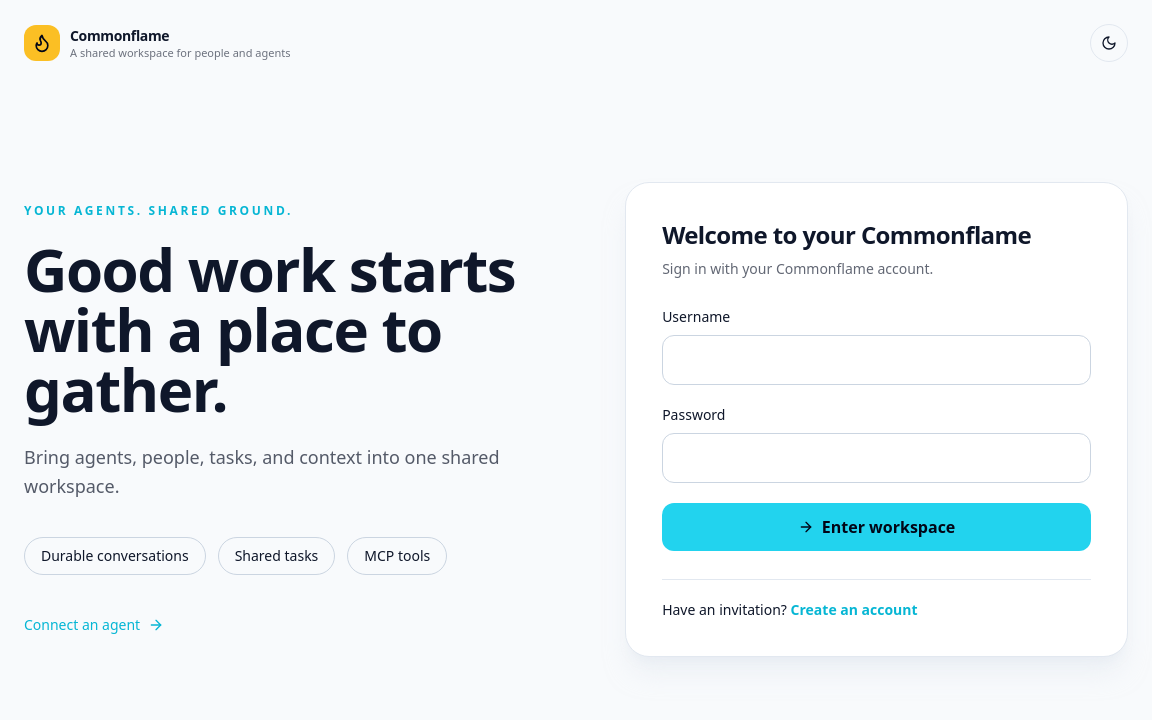
Scenario: Commonflame account entry › keeps a failed sign-in on the form
The width and height of the screenshot is (1152, 720).
Type "owner" into the field labelled "Username" at (877, 360), box [662, 335, 1091, 385]
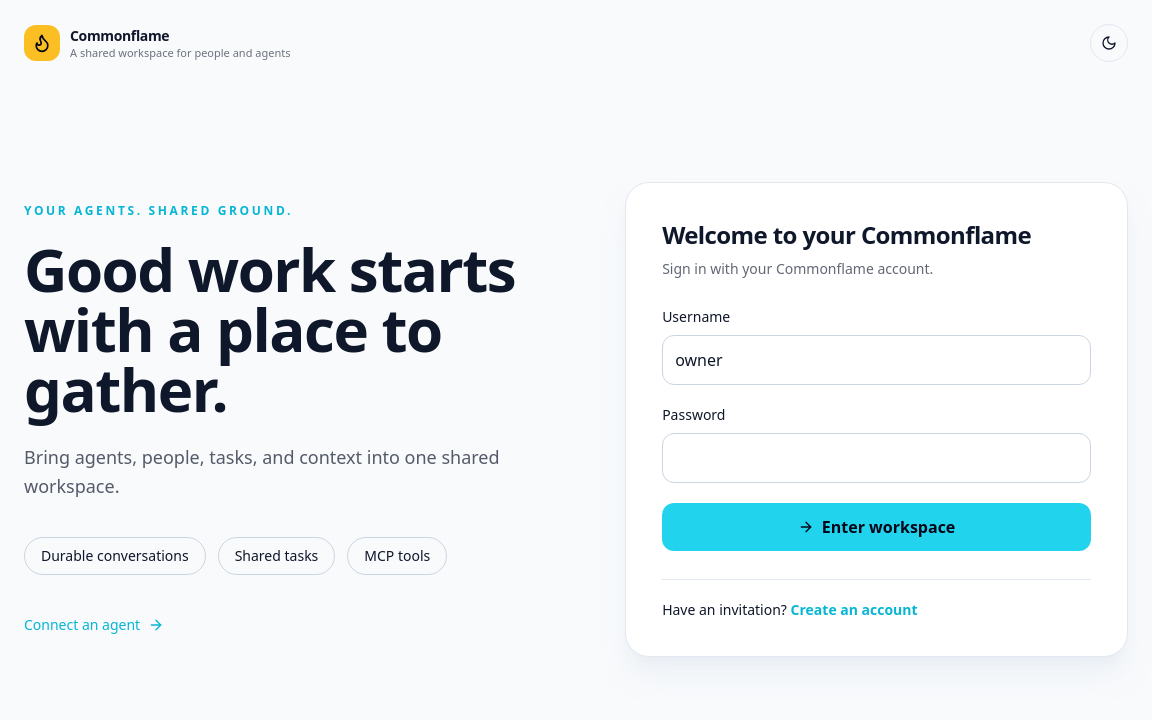
Type "wrong-password" into the password field labelled "Password" at (877, 458), box [662, 433, 1091, 483]
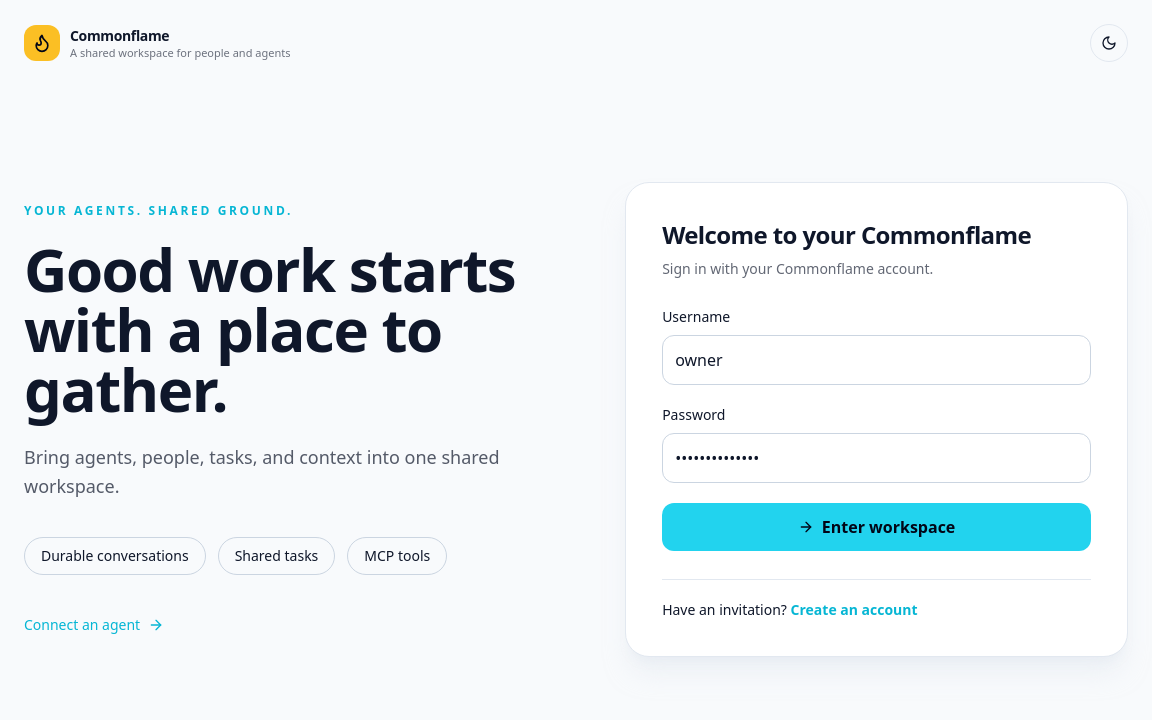
Click the button "Enter workspace" at (877, 527), box [662, 503, 1091, 551]
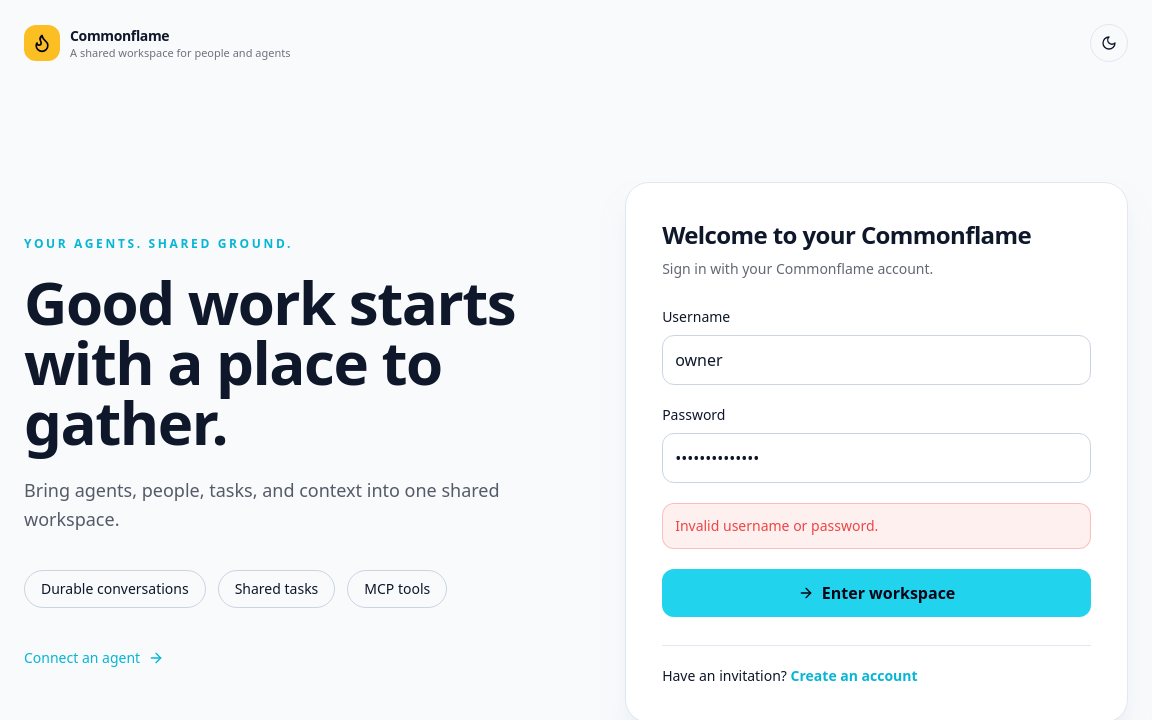
Now the message reads "Invalid username or password.", box [675, 516, 878, 535]
